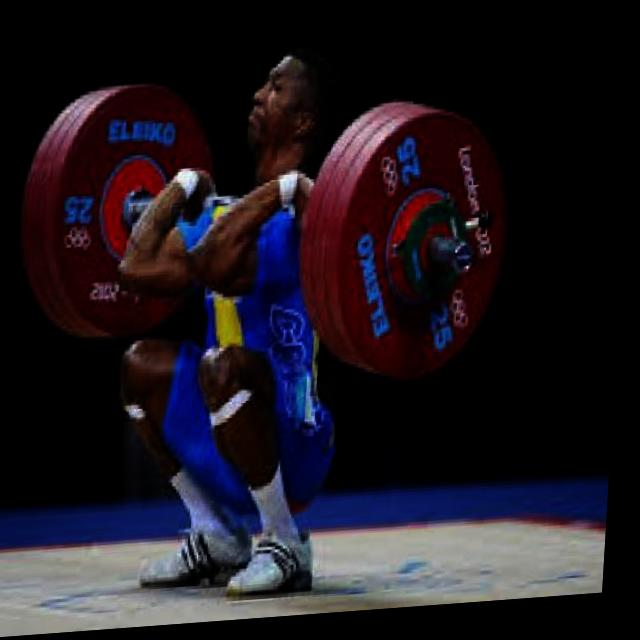barbell: (328, 111, 521, 390)
